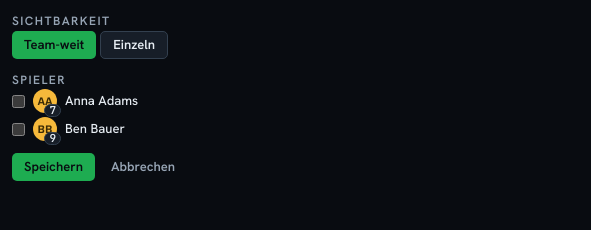
Test case: TagPlayersEditor › blocks saving a single tag with no player selected
Expected: the button "Speichern" is enabled, x1=12 y1=153 x2=95 y2=181
Click the button "Einzeln" at (134, 45), box x1=100 y1=31 x2=168 y2=59
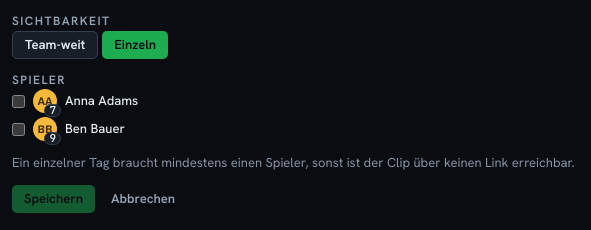
Now the button "Speichern" is disabled, box x1=12 y1=185 x2=95 y2=213
Now the text "braucht mindestens einen Spieler" is shown, box x1=12 y1=154 x2=575 y2=171
// Picking a player unblocks it.
Click the checkbox labelled "AA 7 Anna Adams" at (18, 101), box x1=12 y1=95 x2=25 y2=108
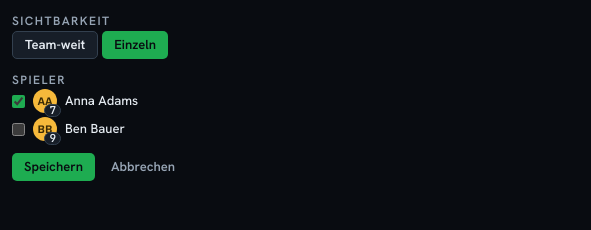
Now the button "Speichern" is enabled, box x1=12 y1=153 x2=95 y2=181
